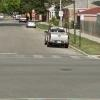Car: (40, 20, 72, 49)
